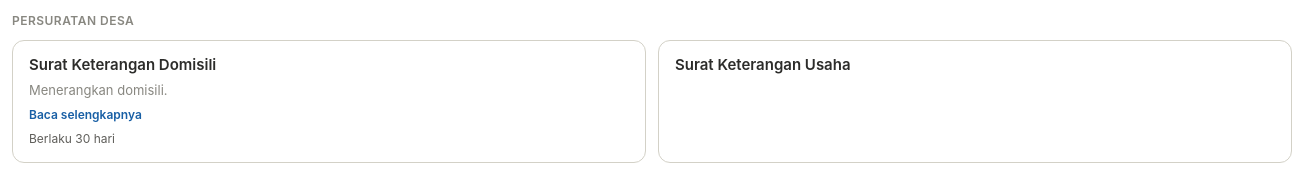
Scenario: LetterTypePicker › expands a cut-off description without selecting the type
Click the button "Baca selengkapnya". click: (85, 115)
box: [29,106,142,124]
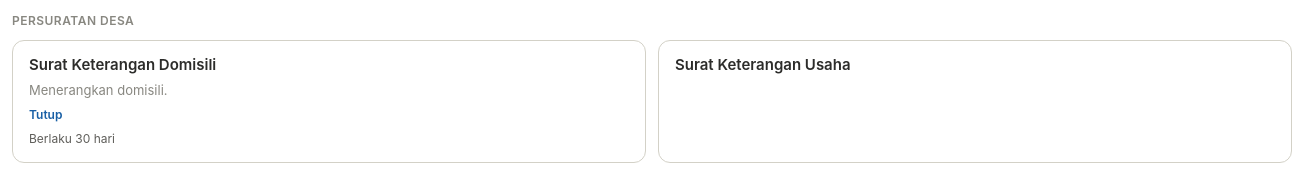
Now the button "Tutup" is expanded, box [29,106,62,124]
